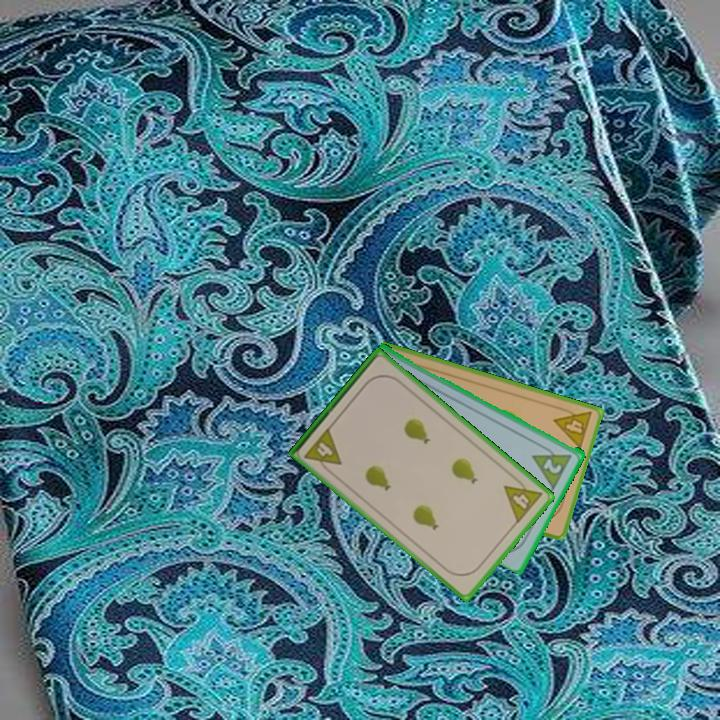2p: (540, 454, 565, 477)
4p: (500, 472, 546, 526), (301, 424, 345, 477), (550, 402, 595, 452)
